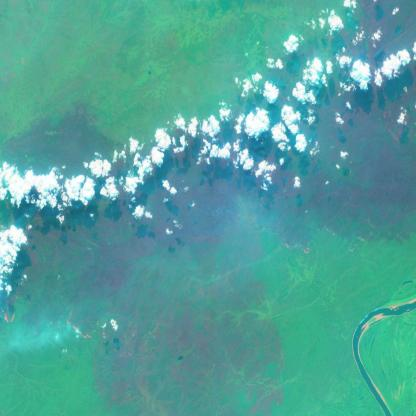fire: (59, 306, 109, 346), (0, 296, 22, 331)
